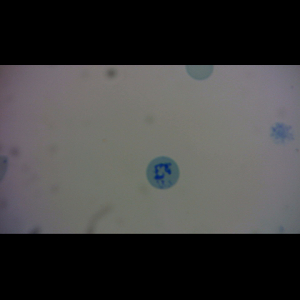aggregate reticulocyte: (145, 155, 180, 190)
